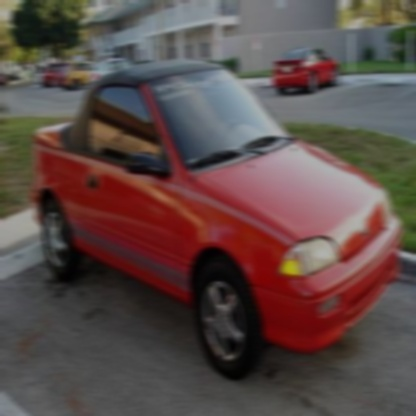Vehicle: (31, 61, 402, 378)
